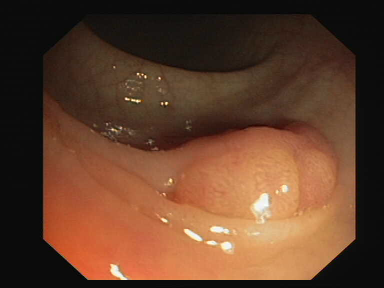polyp: (163, 96, 350, 242)
